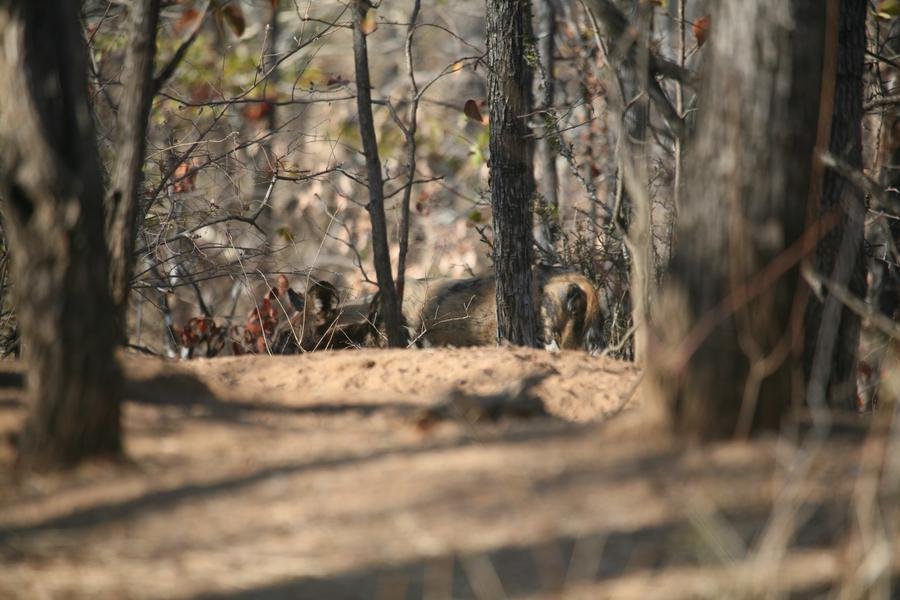wilddog: (283, 268, 585, 351)
